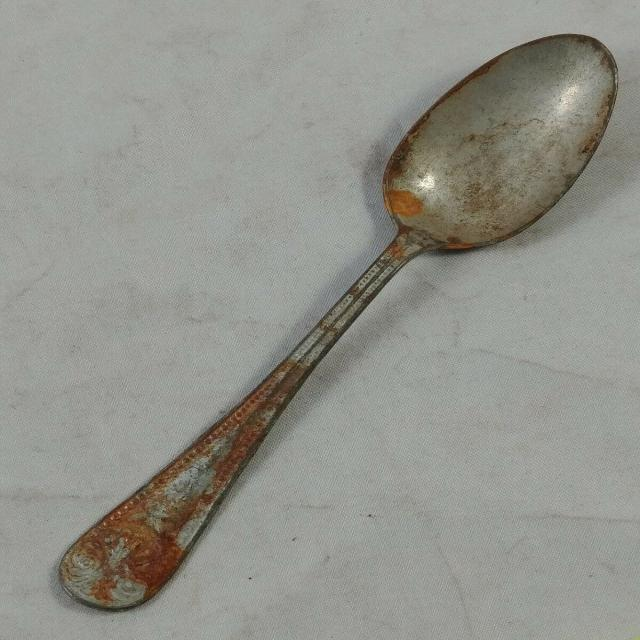spoon: (41, 21, 640, 622)
